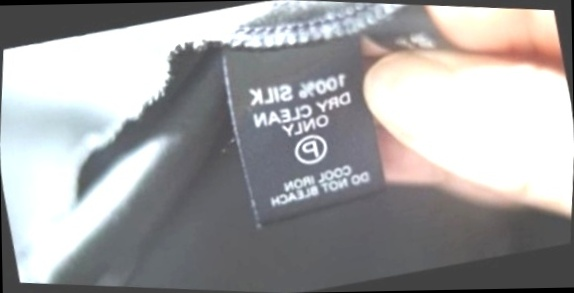dry_clean_any_solvent_except_trichloroethylene: (285, 125, 335, 173)
